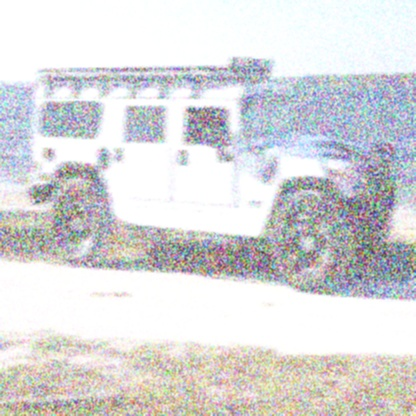Vehicle: (28, 51, 401, 300)
